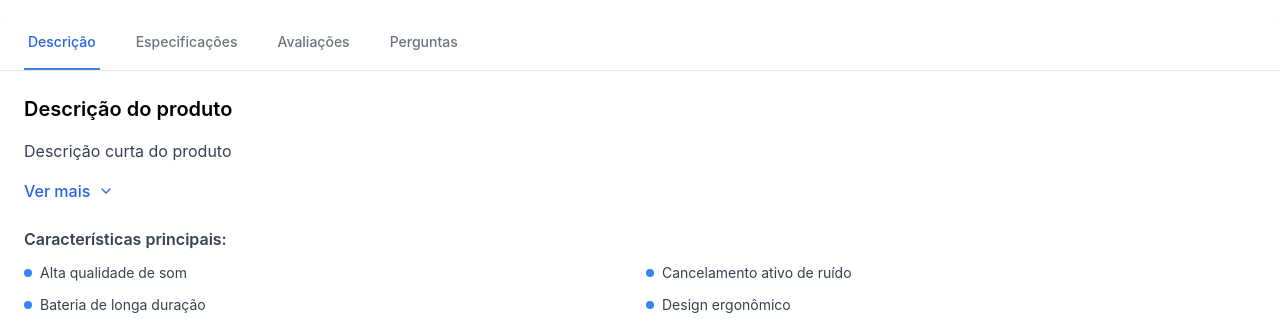
Test case: ProductDescription › Tab Navigation › should switch to specifications tab when clicked
The width and height of the screenshot is (1280, 330).
Click the tab "Especificações" at (186, 43), box [132,16,241,70]
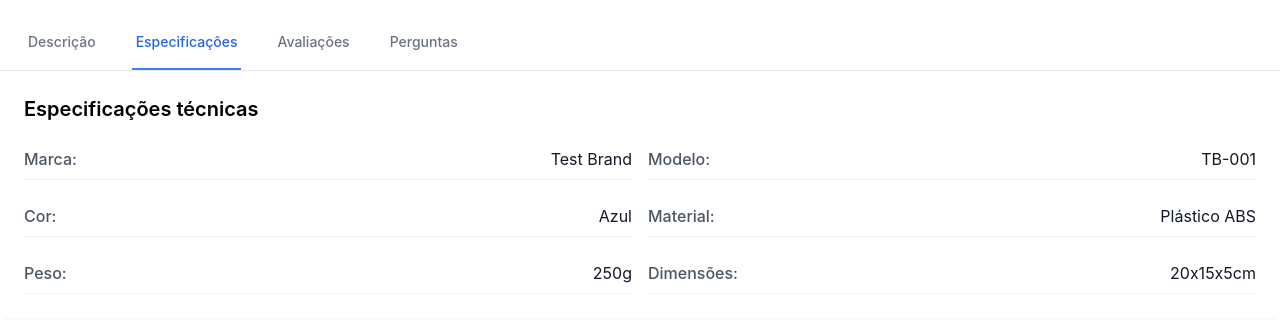
Result: the heading "Especificações técnicas" is shown at [24,97,259,121]
